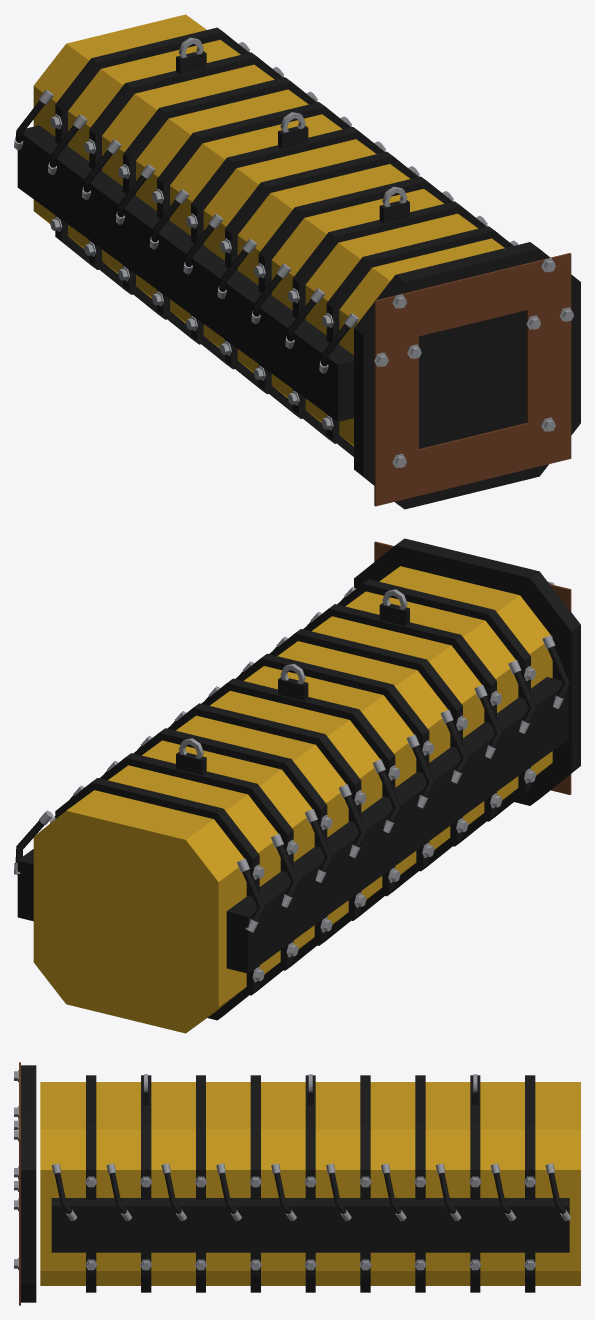
The model's file is md40_coil.obj.
3 views of the same model, one above another, from view 1: azimuth 30°, elevation 25°; view 2: azimuth 150°, elevation 25°; view 3: azimuth 270°, elevation 25° (orthographic). The views are drawn at different scales.
Parts seen in each view (by area): view 1: md40_coil; view 2: md40_coil; view 3: md40_coil.
Part boxes in pixels (left/top/right/bottom): md40_coil: left=14, top=14, right=580, bottom=509; md40_coil: left=14, top=538, right=580, bottom=1033; md40_coil: left=14, top=1062, right=580, bottom=1305.
Size of the model in its own units: 2.27 by 2.19 by 5.58.
